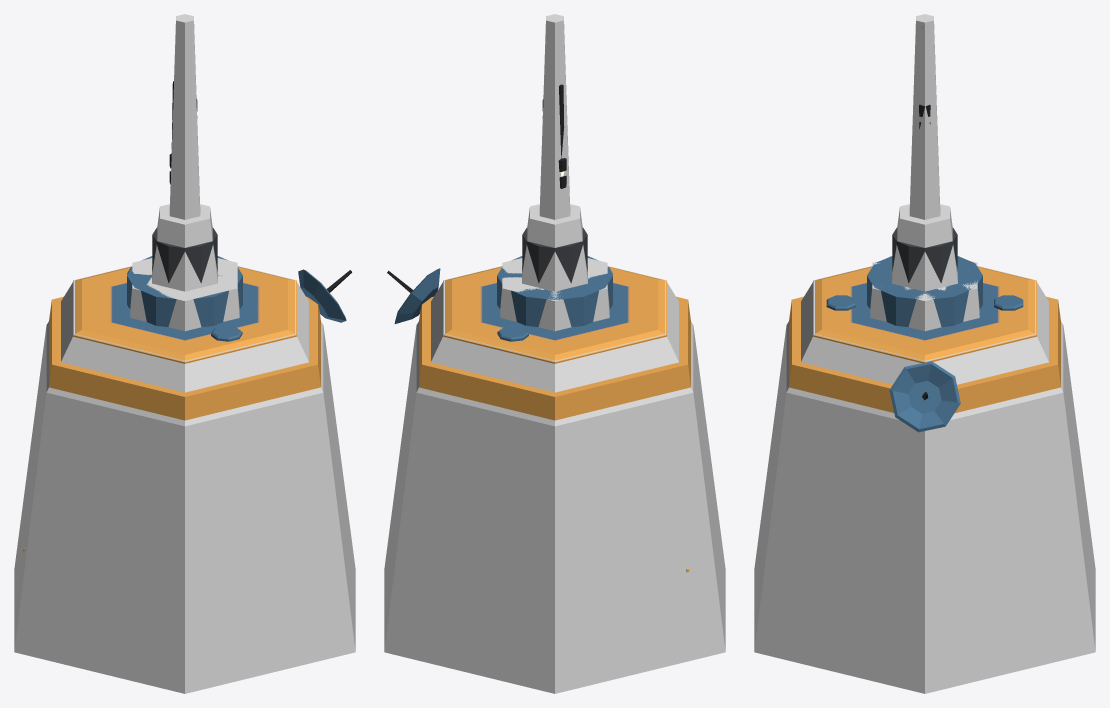
Rendered from SM_Ship_Station_06.fbx.
3 views of the same model, side by side, from view 1: azimuth 30°, elevation 25°; view 2: azimuth 150°, elevation 25°; view 3: azimuth 270°, elevation 25° (orthographic).
Parts seen in each view (by area): view 1: SM_Ship_Station_06_ConvexHulls, SM_Ship_Station_06_LOD0; view 2: SM_Ship_Station_06_ConvexHulls, SM_Ship_Station_06_LOD0; view 3: SM_Ship_Station_06_ConvexHulls, SM_Ship_Station_06_LOD0.
Boxes of the visible parts, bbox=[...] form: SM_Ship_Station_06_ConvexHulls: bbox=[14, 14, 355, 693]; SM_Ship_Station_06_LOD0: bbox=[23, 81, 351, 551]; SM_Ship_Station_06_ConvexHulls: bbox=[384, 14, 725, 693]; SM_Ship_Station_06_LOD0: bbox=[387, 84, 690, 572]; SM_Ship_Station_06_ConvexHulls: bbox=[754, 14, 1095, 693]; SM_Ship_Station_06_LOD0: bbox=[789, 27, 1060, 432].
Bounding box in the file's own units: 5277 × 6093 × 10106.
Materials: 1 (1 with a texture image).
